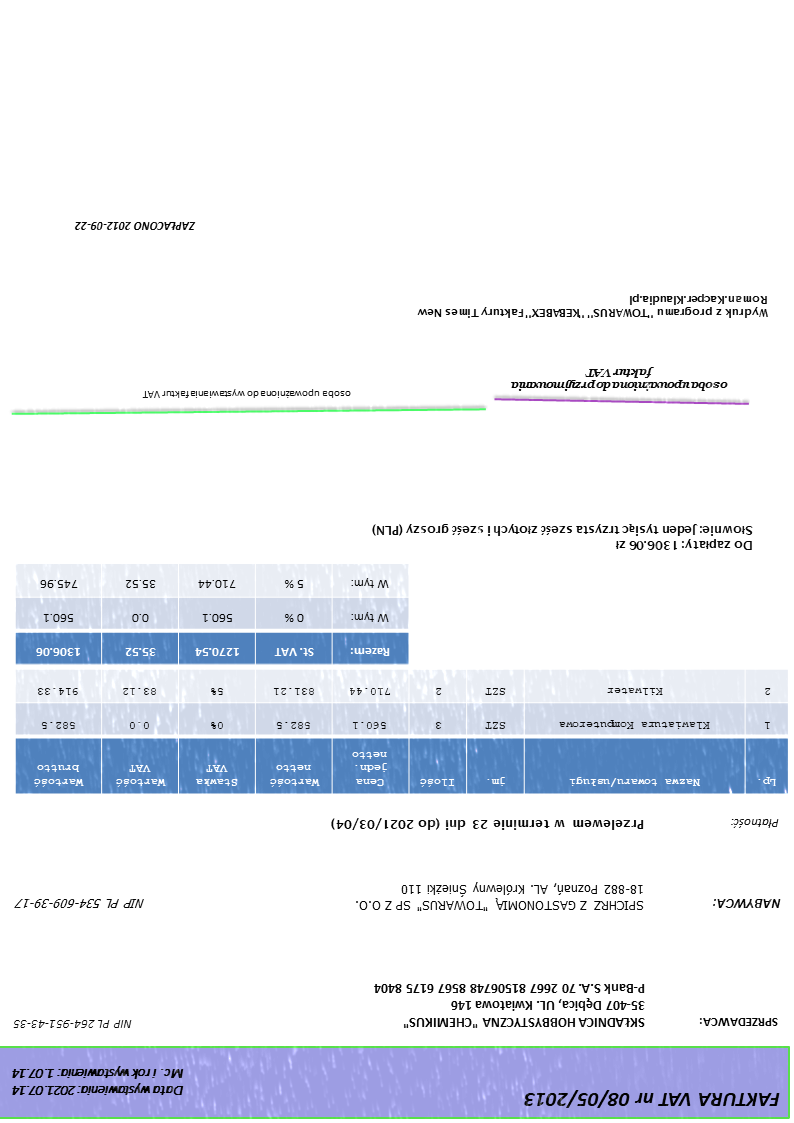Table: (15, 668, 791, 795), (14, 564, 410, 666)
TextBox: (371, 980, 648, 1032), (370, 521, 755, 553), (416, 291, 771, 321), (352, 882, 647, 914), (10, 1064, 187, 1099), (522, 1087, 783, 1110), (509, 367, 729, 394), (329, 816, 646, 833), (142, 386, 353, 401), (74, 217, 198, 235), (14, 895, 146, 911), (13, 1017, 134, 1032), (697, 1014, 781, 1030), (711, 895, 783, 912), (730, 816, 781, 831)
